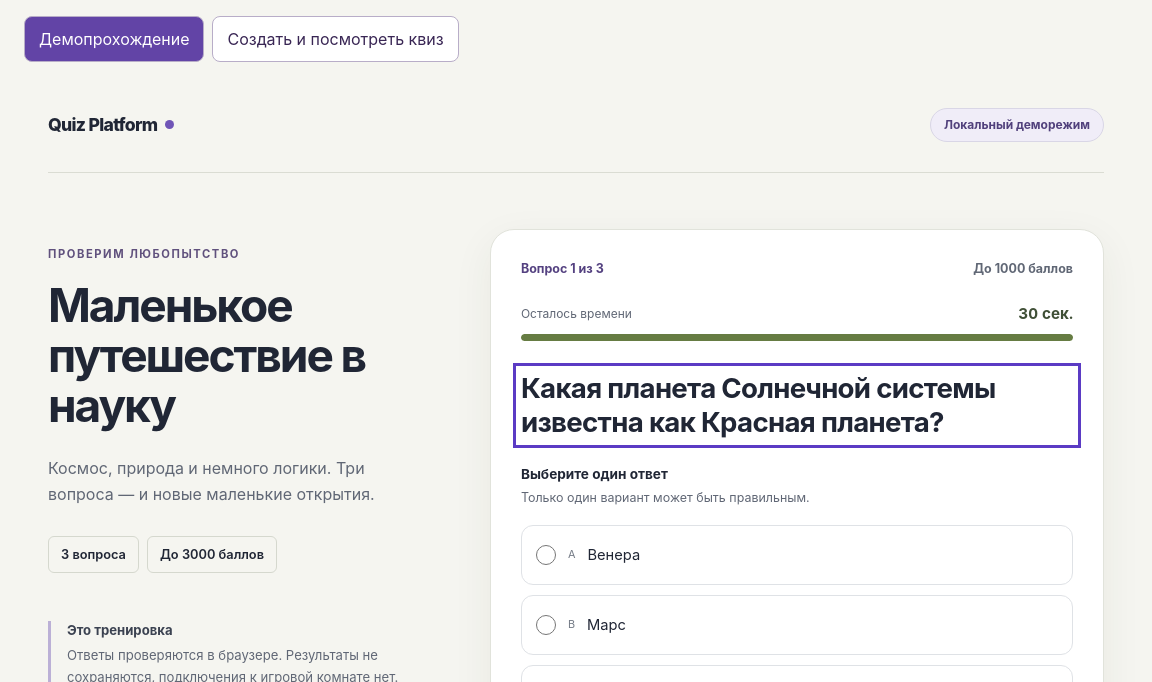
it: QuizWorkspace › shows shared validation errors and makes no request
This screenshot has width=1152, height=682.
Click the button "Создать и посмотреть квиз": (336, 39) [212, 16, 459, 62]
(page scrolled)
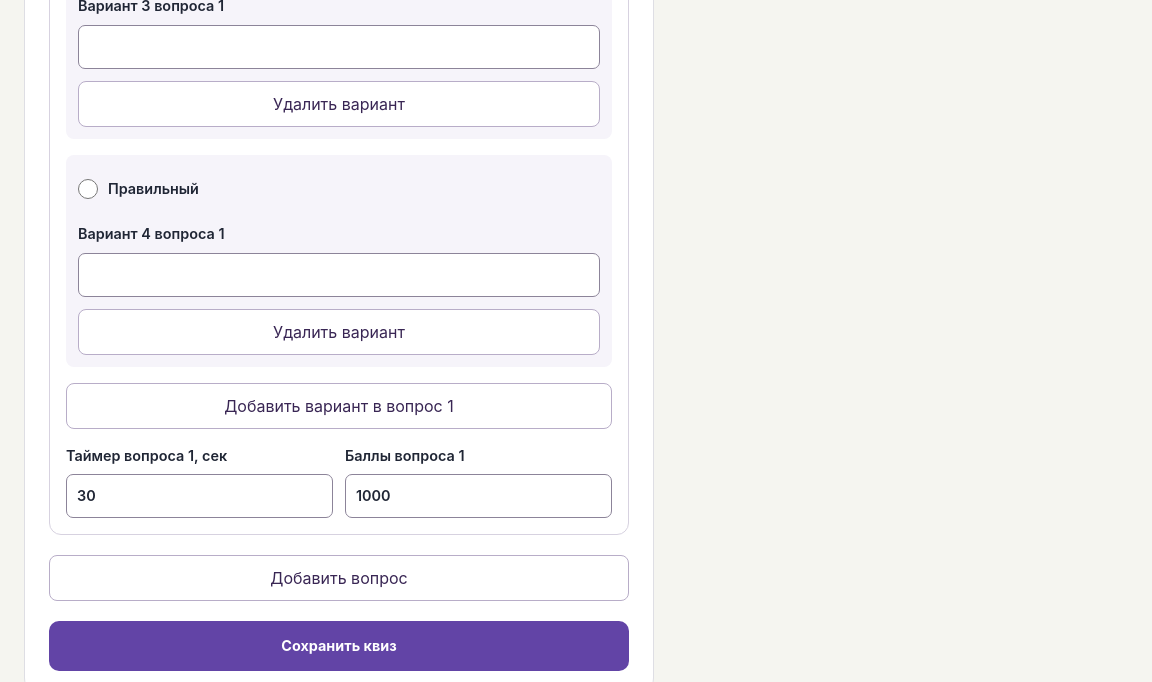
Click the button "Сохранить квиз": (339, 646) [49, 621, 629, 671]
(page scrolled)
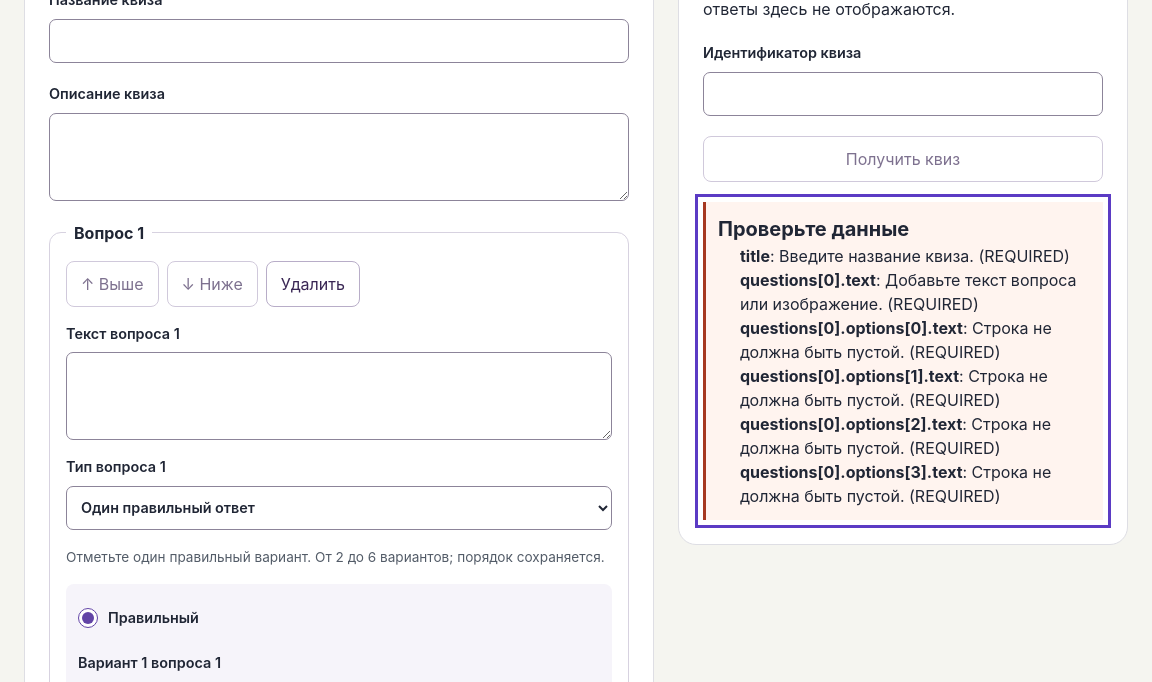
Now the message shows "questions[0].text", box [740, 270, 876, 290]
Now the message shows "REQUIRED", box [984, 246, 1064, 266]
